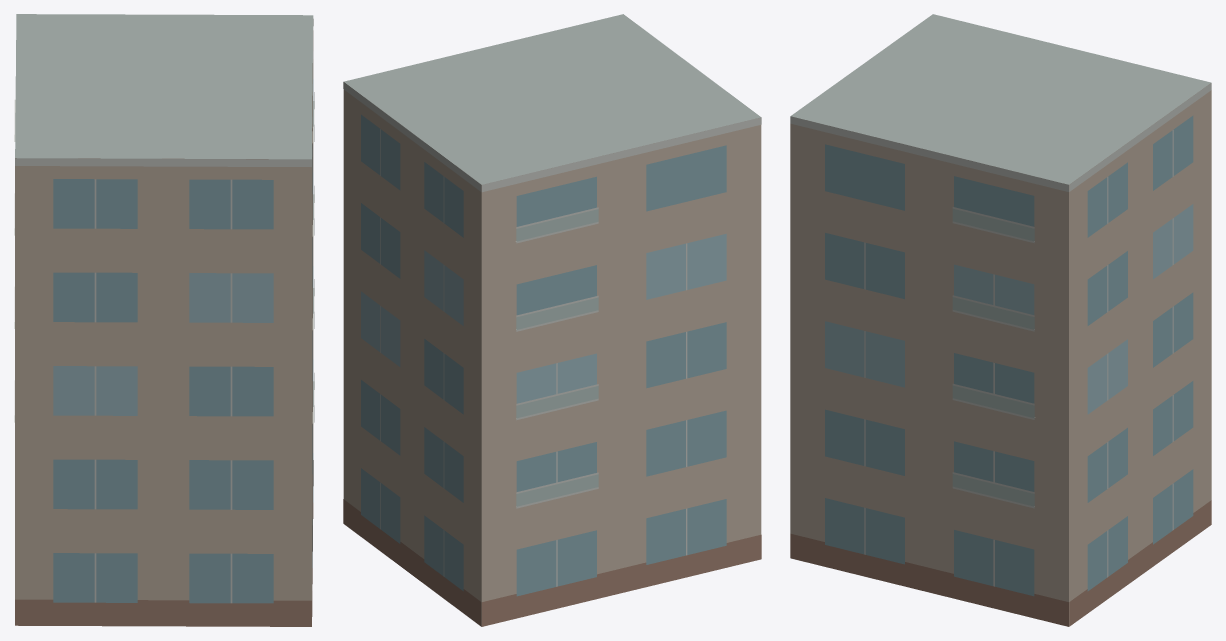
Rendered from survey-upis-32842769.glb.
The picture shows the model from 3 angles, left to right: view 1: azimuth 30°, elevation 25°; view 2: azimuth 150°, elevation 25°; view 3: azimuth 270°, elevation 25°; orthographic projection. The views are drawn at different scales.
Visible parts, largest first — view 1: survey-upis-32842769.tmp; view 2: survey-upis-32842769.tmp; view 3: survey-upis-32842769.tmp.
Part boxes in pixels (x1,y1,x2,y2): survey-upis-32842769.tmp: (14, 14, 314, 626); survey-upis-32842769.tmp: (343, 14, 761, 626); survey-upis-32842769.tmp: (790, 14, 1211, 626).
Size of the model in its own units: 12.02 by 14.5 by 12.53.
